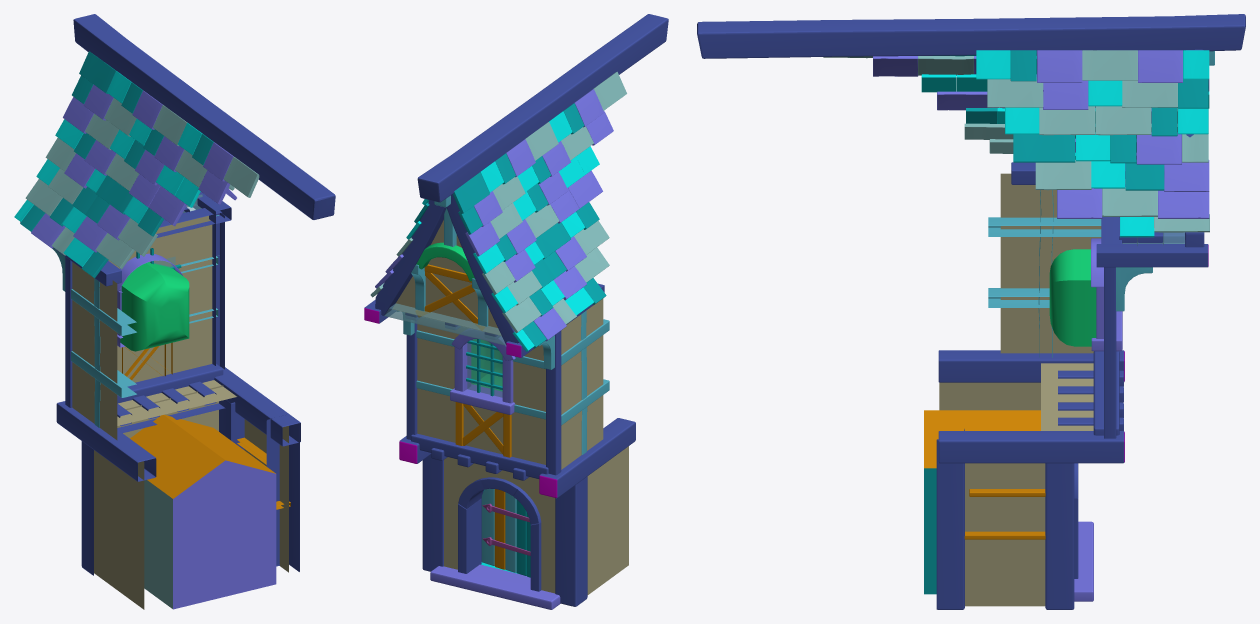
Rendered from SM_Hous_03.fbx.
3 views of the same model, side by side, from view 1: azimuth 30°, elevation 25°; view 2: azimuth 150°, elevation 25°; view 3: azimuth 270°, elevation 25° (orthographic). The views are drawn at different scales.
Visible parts, largest first — view 1: SM_Hous03_roof_02, SM_Hous3Face_2Floor, SM_Hous03Face_1Floor1, SM_Hous3Face_3Floor, SM_Hous3Side_2Floor, SM_Hous3Side1_1Floor, SM_Hous3Side2_1Floor; view 2: SM_Hous03_roof_02, SM_Hous3Face_2Floor, SM_Hous3Face_3Floor, SM_Hous03Face_1Floor1, SM_Hous3Side_2Floor, SM_Hous3Side1_1Floor, SM_Hous3Side2_1Floor, SM_Hous03_roof_01; view 3: SM_Hous03_roof_01, SM_Hous3Face_3Floor, SM_Hous3Face_2Floor, SM_Hous3Side2_1Floor, SM_Hous3Side_2Floor, SM_Hous03Face_1Floor1, SM_Hous03_roof_02, SM_Hous3Side1_1Floor.
Part boxes in pixels (x1,y1,x2,y2): SM_Hous03_roof_02: [14, 51, 259, 278]; SM_Hous3Face_2Floor: [52, 213, 300, 481]; SM_Hous03Face_1Floor1: [81, 385, 276, 609]; SM_Hous3Face_3Floor: [20, 14, 335, 286]; SM_Hous3Side_2Floor: [71, 262, 136, 440]; SM_Hous3Side1_1Floor: [94, 450, 144, 609]; SM_Hous3Side2_1Floor: [219, 399, 299, 572]; SM_Hous03_roof_02: [452, 71, 626, 351]; SM_Hous3Face_2Floor: [397, 311, 635, 498]; SM_Hous3Face_3Floor: [364, 14, 668, 357]; SM_Hous03Face_1Floor1: [430, 457, 587, 609]; SM_Hous3Side_2Floor: [561, 298, 609, 469]; SM_Hous3Side1_1Floor: [587, 446, 628, 594]; SM_Hous3Side2_1Floor: [422, 454, 443, 571]; SM_Hous03_roof_01: [370, 199, 429, 297]; SM_Hous03_roof_01: [976, 50, 1209, 237]; SM_Hous3Face_3Floor: [697, 14, 1245, 267]; SM_Hous3Face_2Floor: [938, 238, 1152, 463]; SM_Hous3Side2_1Floor: [936, 429, 1074, 609]; SM_Hous3Side_2Floor: [988, 173, 1101, 357]; SM_Hous03Face_1Floor1: [924, 410, 1093, 601]; SM_Hous03_roof_02: [823, 54, 1209, 159]; SM_Hous3Side1_1Floor: [939, 382, 1040, 410].
Size of the model in its own units: 3.52 by 9.36 by 8.51.
